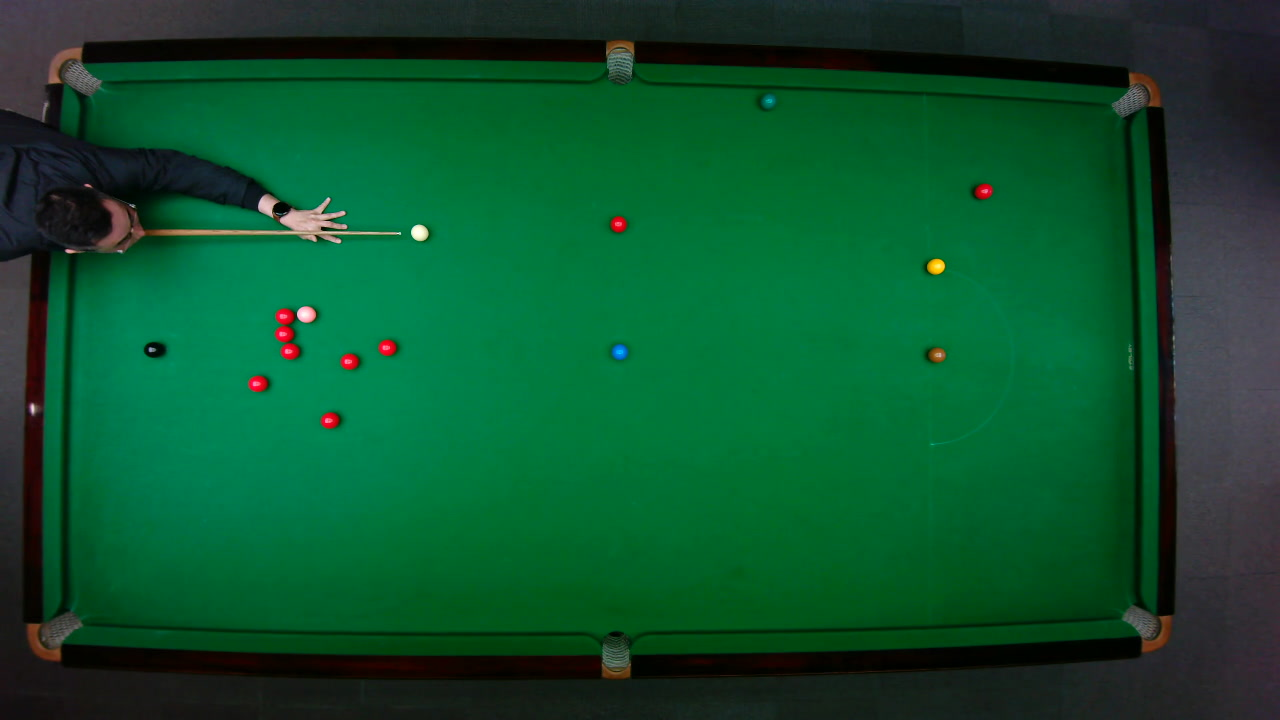bag: (25, 609, 84, 661), (45, 46, 102, 96), (1119, 603, 1171, 652), (1108, 71, 1161, 118), (600, 629, 630, 680), (605, 38, 633, 85)
black: (142, 340, 164, 358)
blue: (610, 342, 628, 360)
brown: (926, 346, 946, 362)
cue: (86, 224, 401, 241)
green: (759, 92, 776, 110)
pink: (294, 304, 317, 323)
red: (318, 410, 340, 429), (246, 374, 269, 392), (279, 342, 300, 360), (376, 338, 397, 356), (338, 352, 359, 370), (273, 306, 294, 324), (273, 325, 294, 342), (972, 182, 993, 199), (608, 215, 627, 233)
white: (409, 223, 429, 241)
yellow: (925, 257, 946, 274)
zone: (927, 267, 1013, 445)
